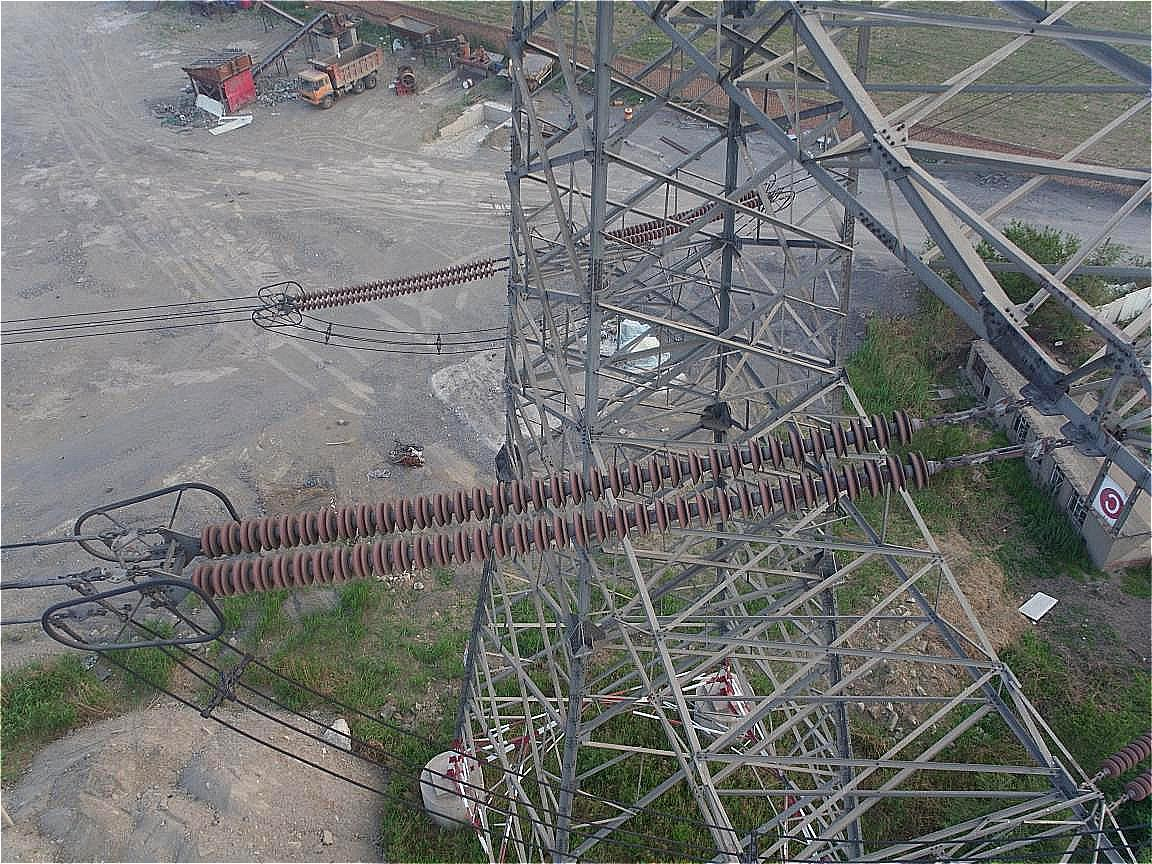insultor1: (285, 245, 517, 322)
insultor2: (170, 397, 953, 598)
